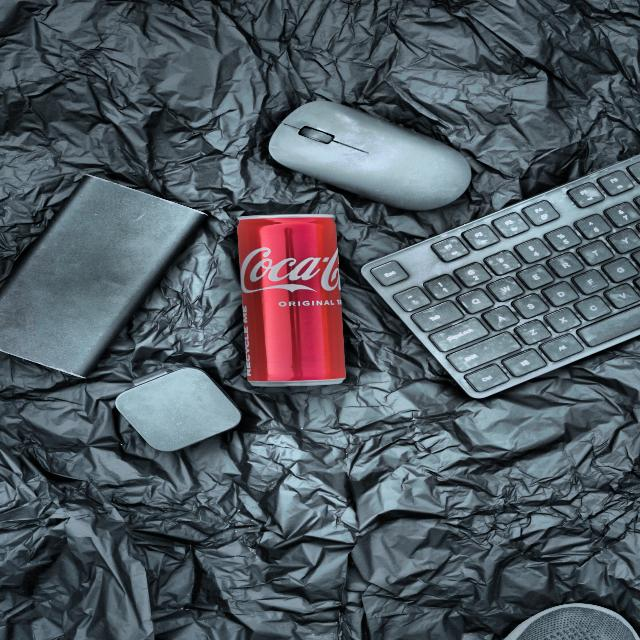Keyboard: (361, 156, 640, 398)
MOUSE: (269, 101, 471, 211)
Power bank: (0, 176, 206, 376)
